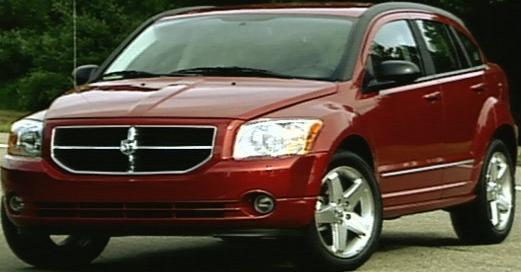front_view: (8, 95, 343, 232)
headlight: (227, 118, 325, 173)
side_glass: (364, 8, 482, 88)
